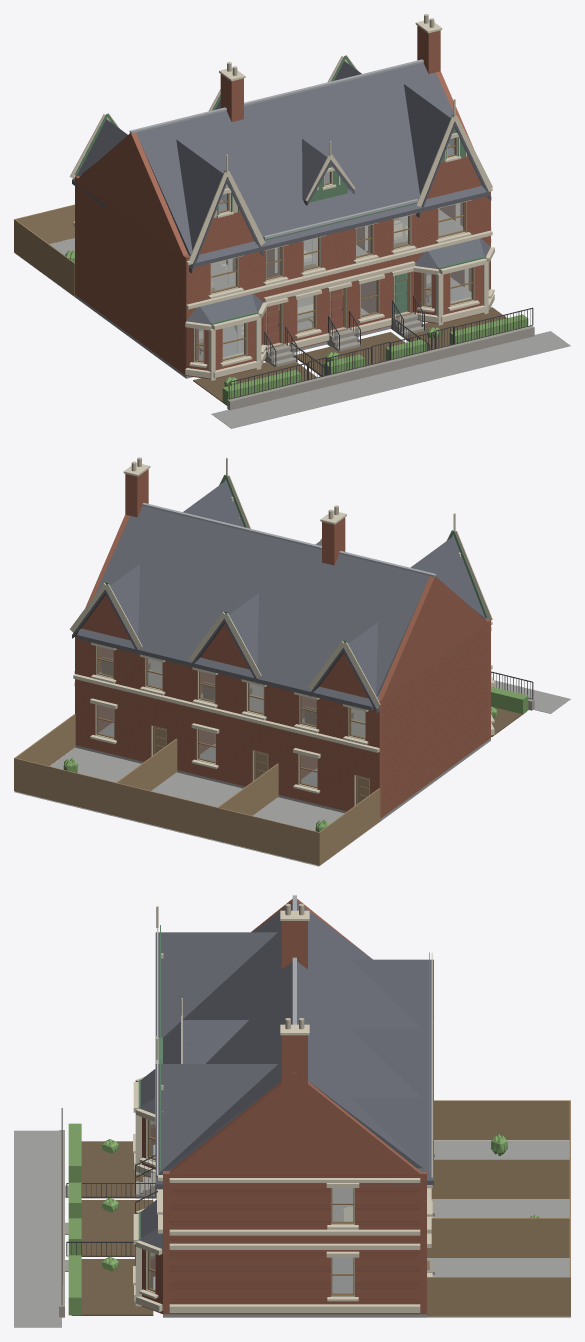
File: clay-queen-anne-rowhouse-trio-clay-v003.glb
3 renders of one model, top to bottom at view 1: azimuth 30°, elevation 25°; view 2: azimuth 150°, elevation 25°; view 3: azimuth 270°, elevation 25°, orthographic. The views are drawn at different scales.
Parts seen in each view (by area): view 1: CLAY_ROOF, CLAY_WALL, CLAY_PALE, CLAY_FOUNDATION, CLAY_GLASS, CLAY_STONE, CLAY_HARDWARE, CLAY_SOIL, CLAY_TIMBER, CLAY_PLANTING, CLAY_TRIM, CLAY_SAND (+7 smaller); view 2: CLAY_WALL, CLAY_ROOF, CLAY_TIMBER, CLAY_FOUNDATION, CLAY_PALE, CLAY_GLASS, CLAY_JOINT, CLAY_SAND, CLAY_TRIM, CLAY_LEAD, CLAY_PLANTING, CLAY_FLOOR (+1 smaller); view 3: CLAY_ROOF, CLAY_WALL, CLAY_TIMBER, CLAY_FOUNDATION, CLAY_PALE, CLAY_SOIL, CLAY_JOINT, CLAY_PLANTING, CLAY_GLASS, CLAY_STONE, CLAY_HARDWARE, CLAY_TRIM (+4 smaller).
Part boxes in pixels (x1=…): CLAY_ROOF: x1=72, y1=61, x2=491, y2=324; CLAY_WALL: x1=75, y1=26, x2=490, y2=378; CLAY_PALE: x1=69, y1=19, x2=494, y2=380; CLAY_FOUNDATION: x1=15, y1=238, x2=570, y2=428; CLAY_GLASS: x1=196, y1=138, x2=471, y2=360; CLAY_STONE: x1=227, y1=312, x2=534, y2=410; CLAY_HARDWARE: x1=226, y1=260, x2=533, y2=399; CLAY_SOIL: x1=193, y1=307, x2=506, y2=405; CLAY_TIMBER: x1=14, y1=204, x2=434, y2=351; CLAY_PLANTING: x1=65, y1=250, x2=528, y2=405; CLAY_TRIM: x1=195, y1=137, x2=473, y2=362; CLAY_SAND: x1=194, y1=14, x2=489, y2=363; CLAY_WALL: x1=75, y1=469, x2=490, y2=818; CLAY_ROOF: x1=72, y1=480, x2=491, y2=712; CLAY_TIMBER: x1=14, y1=657, x2=380, y2=865; CLAY_FOUNDATION: x1=15, y1=680, x2=570, y2=866; CLAY_PALE: x1=69, y1=457, x2=494, y2=793; CLAY_GLASS: x1=98, y1=647, x2=365, y2=786; CLAY_JOINT: x1=75, y1=625, x2=487, y2=813; CLAY_SAND: x1=95, y1=457, x2=369, y2=805; CLAY_TRIM: x1=96, y1=646, x2=365, y2=804; CLAY_LEAD: x1=142, y1=503, x2=436, y2=576; CLAY_PLANTING: x1=63, y1=687, x2=528, y2=831; CLAY_FLOOR: x1=99, y1=659, x2=365, y2=737; CLAY_ROOF: x1=140, y1=902, x2=433, y2=1248; CLAY_WALL: x1=141, y1=899, x2=426, y2=1314; CLAY_TIMBER: x1=343, y1=1100, x2=570, y2=1316; CLAY_FOUNDATION: x1=14, y1=1130, x2=570, y2=1327; CLAY_PALE: x1=133, y1=906, x2=432, y2=1312; CLAY_SOIL: x1=71, y1=1141, x2=153, y2=1315; CLAY_JOINT: x1=142, y1=1129, x2=419, y2=1314; CLAY_PLANTING: x1=68, y1=1123, x2=540, y2=1315; CLAY_GLASS: x1=150, y1=1120, x2=353, y2=1293; CLAY_STONE: x1=59, y1=1130, x2=434, y2=1317; CLAY_HARDWARE: x1=61, y1=1108, x2=157, y2=1304; CLAY_TRIM: x1=147, y1=1119, x2=429, y2=1295.
Bounding box in the file's own units: 19.4 × 13.55 × 23.2.
